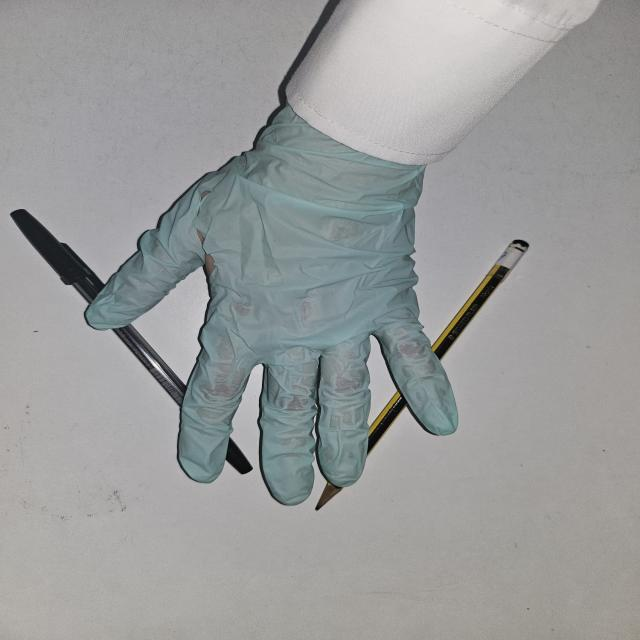gloves_damaged: (81, 112, 464, 505)
